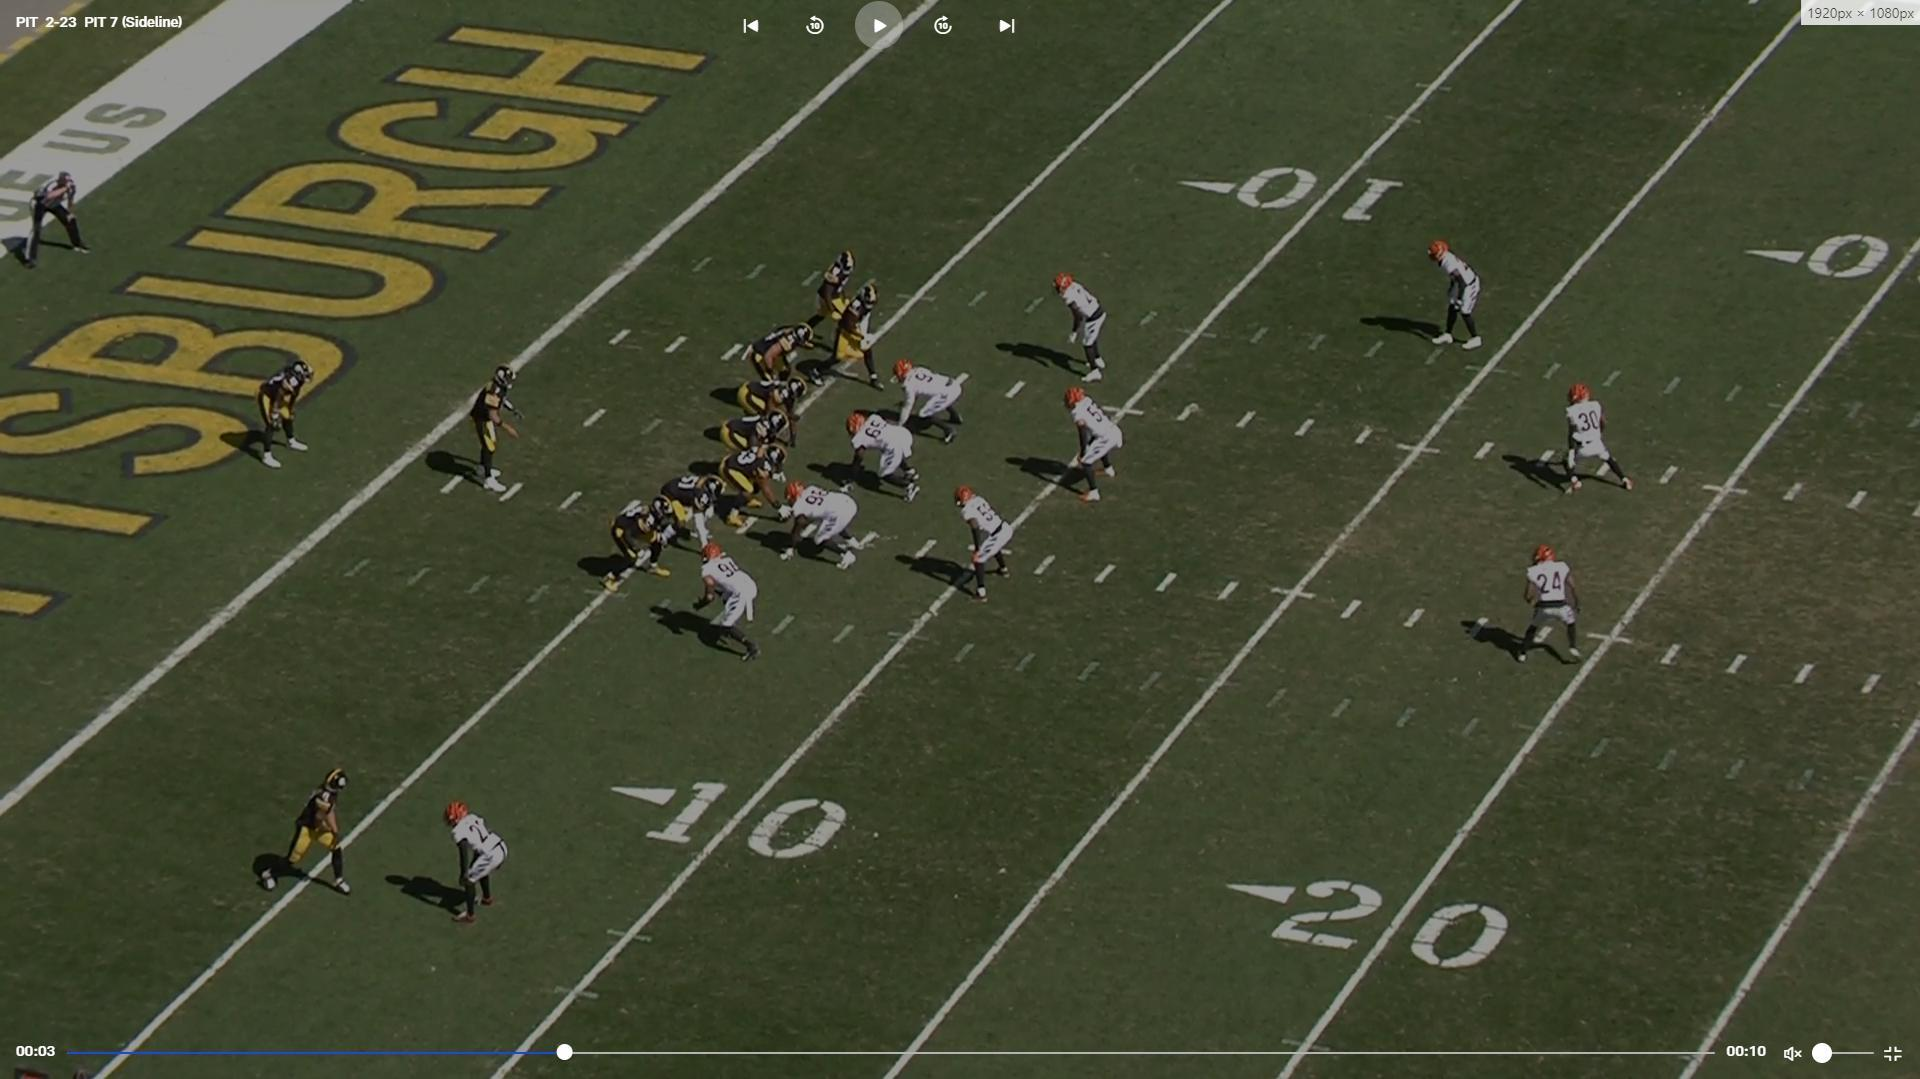player: (254, 759, 365, 901), (1563, 375, 1644, 496), (443, 795, 513, 923), (1513, 545, 1581, 672), (1429, 237, 1494, 360), (700, 540, 764, 664), (1058, 387, 1122, 510), (247, 357, 312, 477), (782, 483, 868, 572), (605, 492, 678, 591), (824, 280, 888, 391), (846, 408, 918, 506), (704, 444, 783, 532), (955, 484, 1011, 607), (470, 362, 520, 499), (898, 357, 972, 448), (803, 245, 860, 358), (1053, 268, 1108, 383), (739, 371, 814, 451), (649, 466, 719, 549), (721, 408, 797, 484), (743, 322, 815, 378)
ref: (24, 162, 92, 271)
